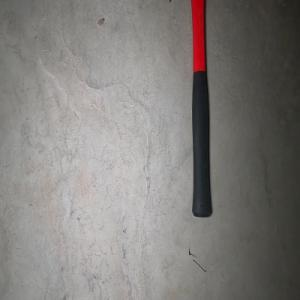Hammer: (167, 0, 225, 218)
